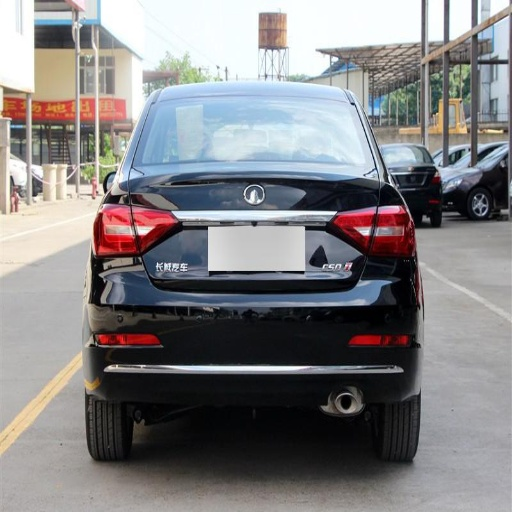back_bumper: (88, 251, 420, 416)
tailgate: (225, 164, 377, 294)
trunk: (131, 176, 298, 301)
